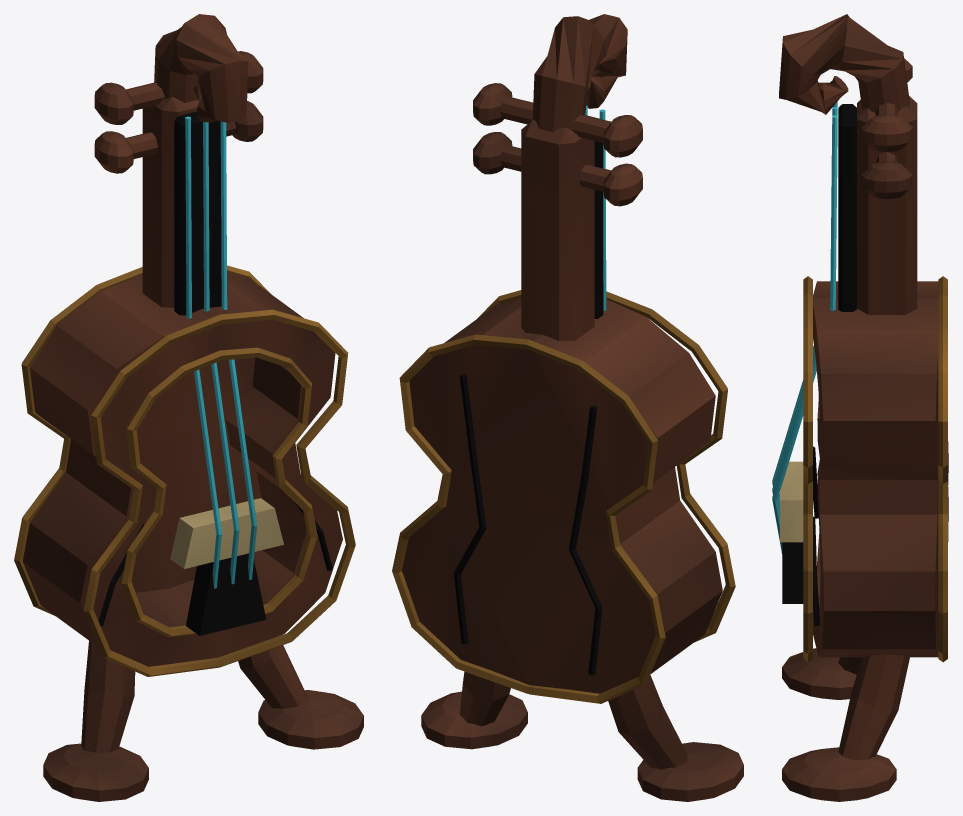
The model's file is hollow_violin.fbx.
3 renders of one model, left to right at view 1: azimuth 30°, elevation 25°; view 2: azimuth 150°, elevation 25°; view 3: azimuth 270°, elevation 25°, orthographic. The views are drawn at different scales.
Visible parts, largest first — view 1: hollow_violin; view 2: hollow_violin; view 3: hollow_violin.
Part boxes in pixels (box(x1,y1,x2,y2)): hollow_violin: box(14, 14, 363, 801); hollow_violin: box(392, 14, 743, 801); hollow_violin: box(772, 14, 948, 801).
Size of the model in its own units: 1.64 by 3.85 by 0.85.
